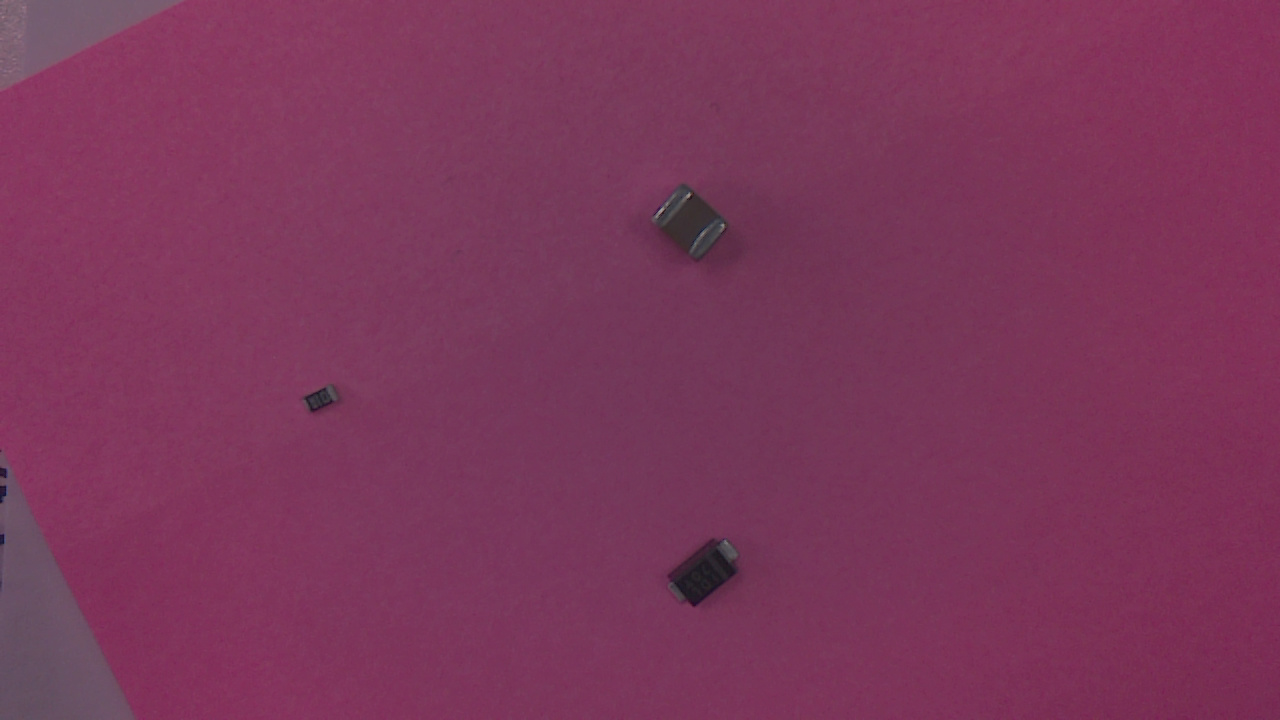Condensator: (652, 191, 735, 263)
Diode: (668, 543, 749, 612)
Resistor: (304, 384, 348, 424)
